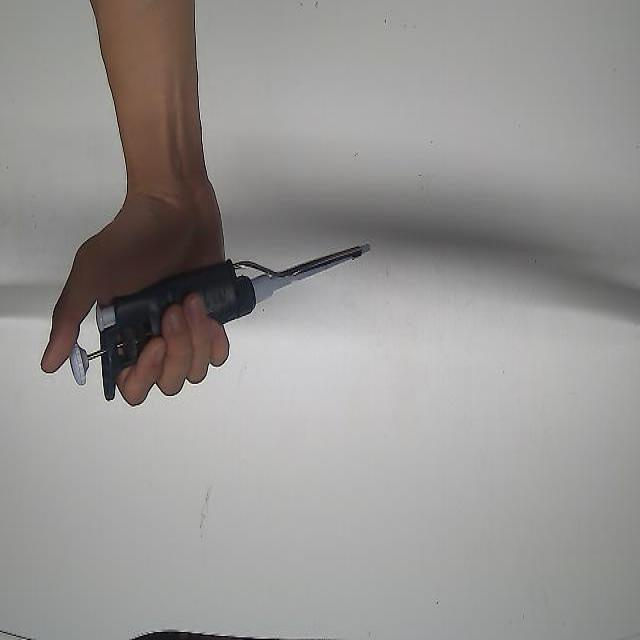Single Channel Pipettor: (62, 233, 373, 405)
